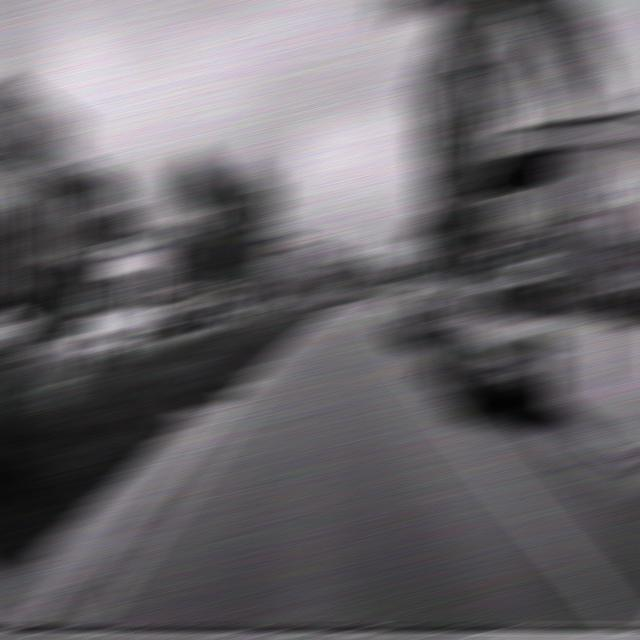speedLimit25: (416, 234, 442, 260)
